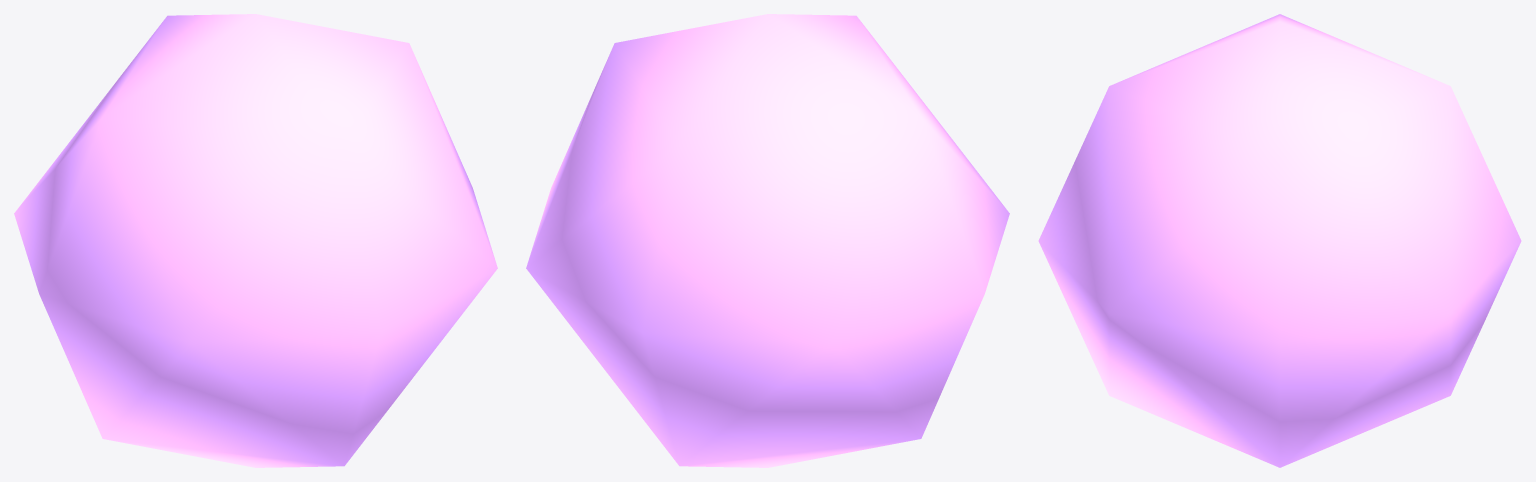
Rendered from mine.glb.
The picture shows the model from 3 angles, left to right: view 1: azimuth 30°, elevation 25°; view 2: azimuth 150°, elevation 25°; view 3: azimuth 270°, elevation 25°; orthographic projection. The views are drawn at different scales.
Visible parts, largest first — view 1: mine; view 2: mine; view 3: mine.
Part boxes in pixels (x1=…): mine: x1=14, y1=14, x2=497, y2=467; mine: x1=526, y1=14, x2=1009, y2=467; mine: x1=1038, y1=14, x2=1521, y2=467.
Size of the model in its own units: 1.2 by 1.2 by 1.2.
